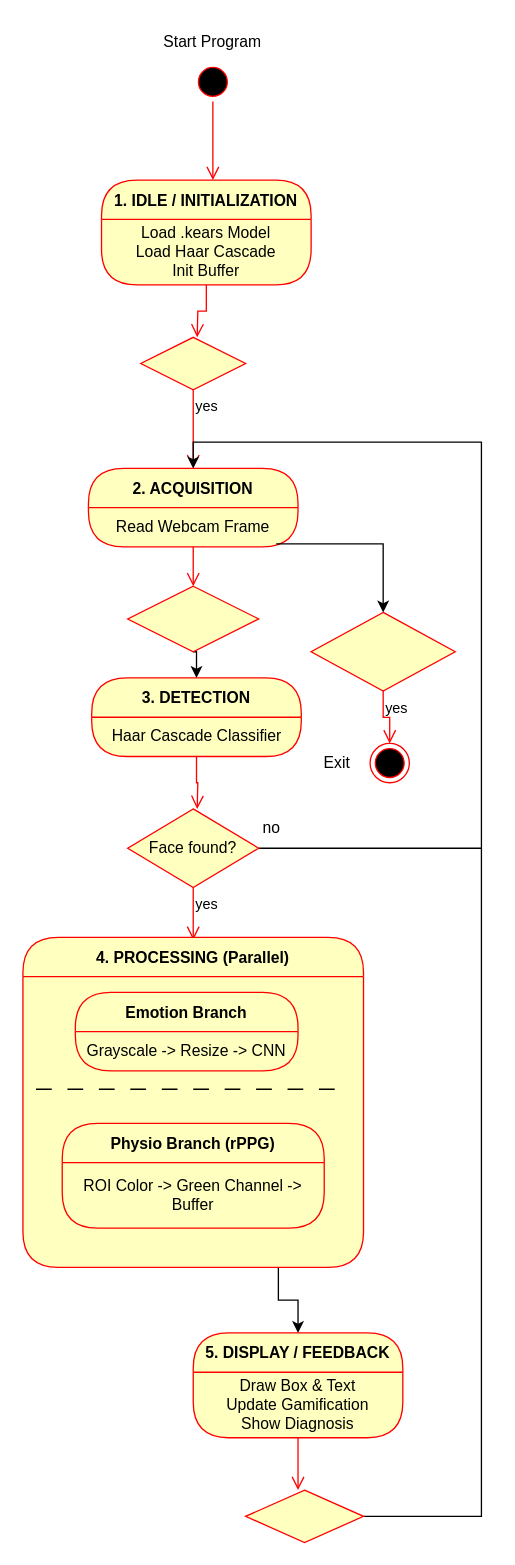
The diagram is 515 pixels wide and 1565 high, and some of its shapes have lost their labels. The centre of each missing label's shape, as x and y in pixels:
Frame Ready?: (192,618)
Init OK?: (193,363)
Next Frame: (304,1516)
Press 'q' (Exit): (382,651)
